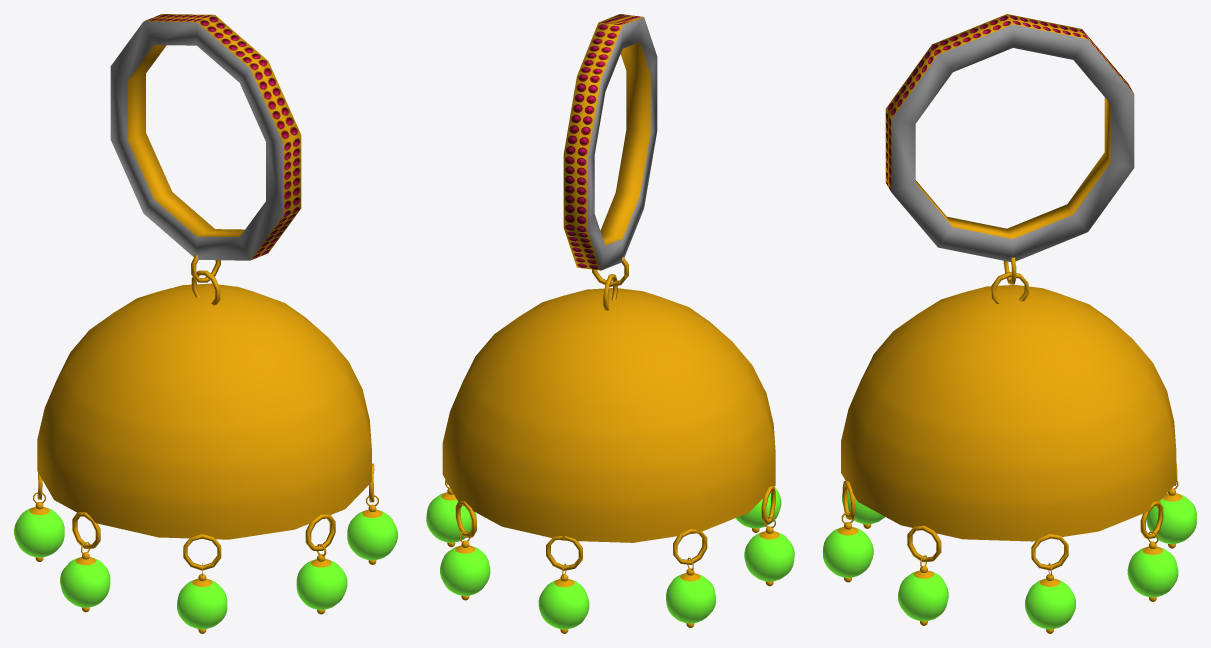
The model's file is anarkali_earring.glb.
3 renders of one model, left to right at view 1: azimuth 30°, elevation 25°; view 2: azimuth 150°, elevation 25°; view 3: azimuth 270°, elevation 25°, orthographic.
Parts seen in each view (by area): view 1: Sphere_Sphere.001_0; view 2: Sphere_Sphere.001_0; view 3: Sphere_Sphere.001_0.
Part boxes in pixels (<box>): Sphere_Sphere.001_0: <box>14,14,397,633</box>; Sphere_Sphere.001_0: <box>426,14,794,633</box>; Sphere_Sphere.001_0: <box>823,14,1196,633</box>.
Size of the model in its own units: 0.4042 by 0.6515 by 0.4043.
Materials: 9 (1 with a texture image).
